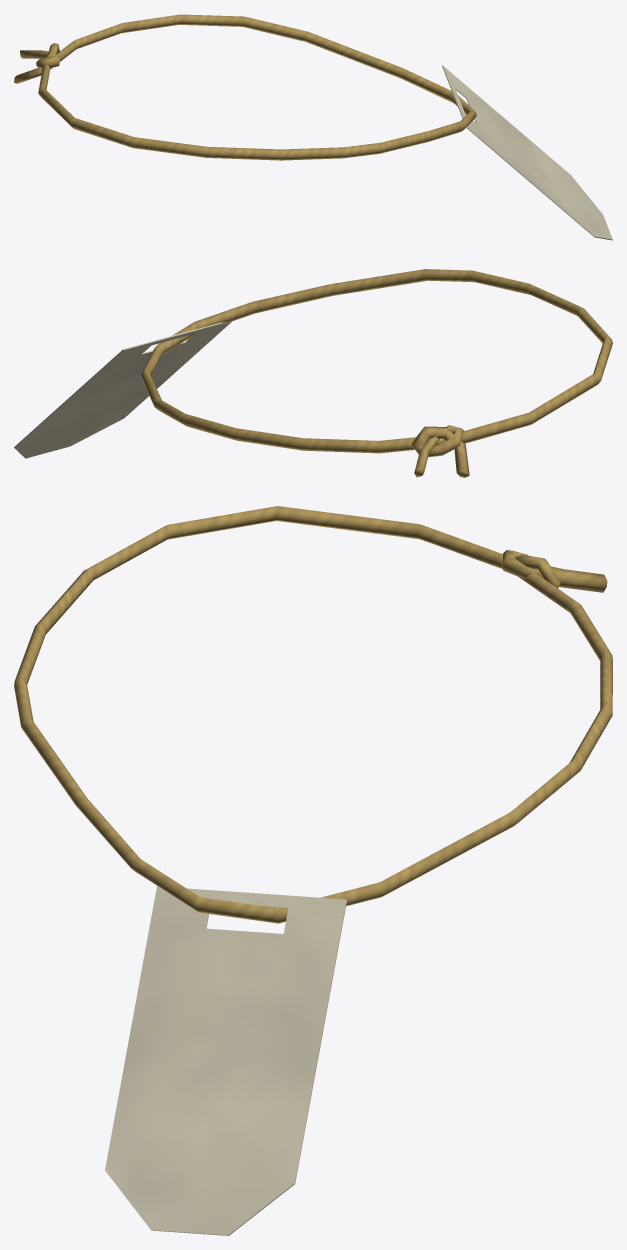
Rendered from tag-heart.glb.
3 views of the same model, one above another, from view 1: azimuth 30°, elevation 25°; view 2: azimuth 150°, elevation 25°; view 3: azimuth 270°, elevation 25° (orthographic). The views are drawn at different scales.
Parts seen in each view (by area): view 1: string-heart, tag-heart; view 2: string-heart, tag-heart; view 3: tag-heart, string-heart.
Part boxes in pixels (left/top/right/bottom): string-heart: left=14, top=14, right=476, bottom=160; tag-heart: left=442, top=65, right=612, bottom=240; string-heart: left=141, top=269, right=612, bottom=477; tag-heart: left=14, top=321, right=231, bottom=458; tag-heart: left=105, top=886, right=347, bottom=1235; string-heart: left=14, top=506, right=612, bottom=923.
Size of the model in its own units: 0.0603 by 0.0239 by 0.0382.
Materials: 2 (2 with a texture image).
